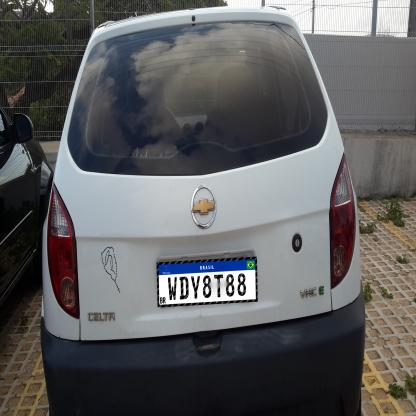PlacaM: (156, 257, 258, 307)
